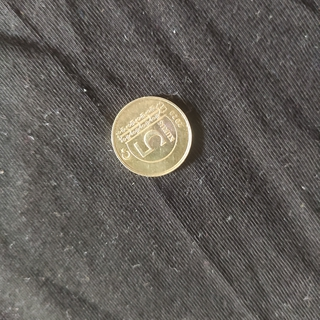5KURUS: (109, 93, 195, 178)
